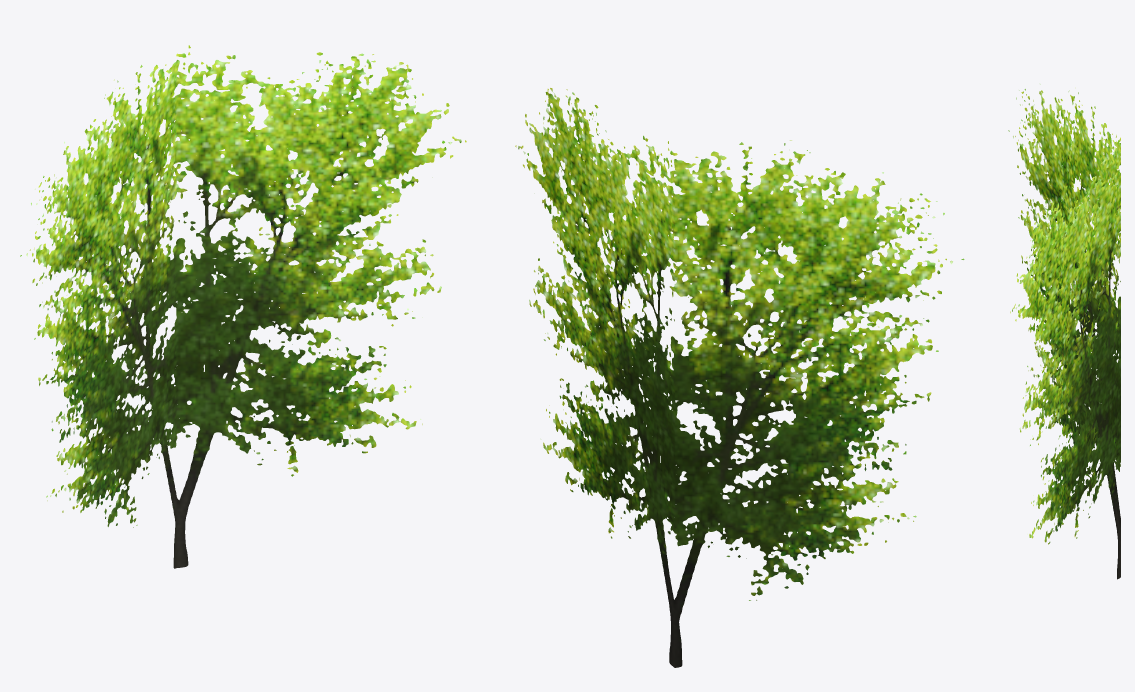
Rendered from tree-spriter.glb.
The picture shows the model from 3 angles, left to right: view 1: azimuth 30°, elevation 25°; view 2: azimuth 150°, elevation 25°; view 3: azimuth 270°, elevation 25°; orthographic projection. The views are drawn at different scales.
Parts seen in each view (by area): view 1: tree.1; view 2: tree.1; view 3: tree.1.
Boxes of the visible parts, x1,y1,x2,y2 form: tree.1: (20,45,466,568); tree.1: (515,88,964,667); tree.1: (1008,83,1120,579).
Size of the model in its own units: 10.95 by 12.34 by 2.78.
1 material, 1 textured.
